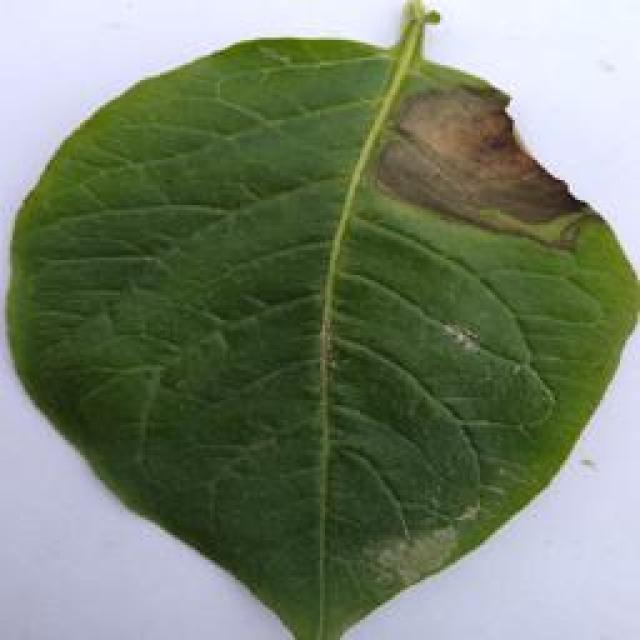Potato_Late_Blight: (7, 24, 630, 640)
